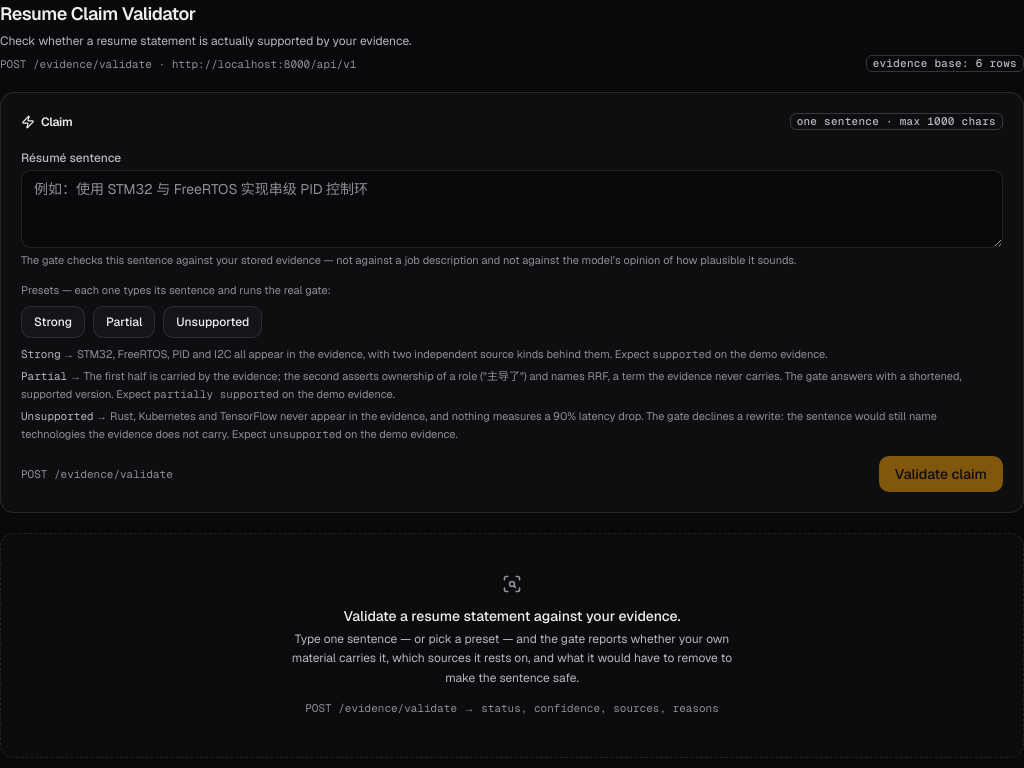
the claim validator page › states the unsupported verdict in its own words
Type "使用 STM32 与 FreeRTOS 实现串级 PID 控制环" into the text box labelled "Résumé sentence" at x=512, y=209, box [21, 170, 1003, 248]
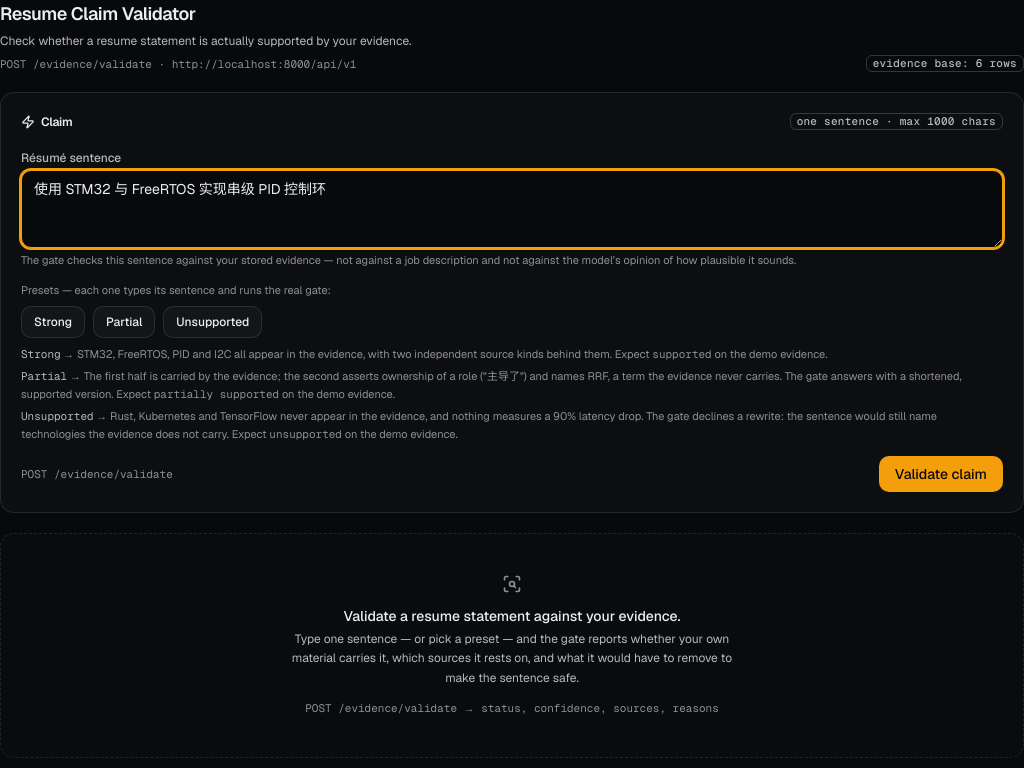
Click the button with test id "validate-claim" at x=941, y=474, box [879, 456, 1003, 492]
(page scrolled)
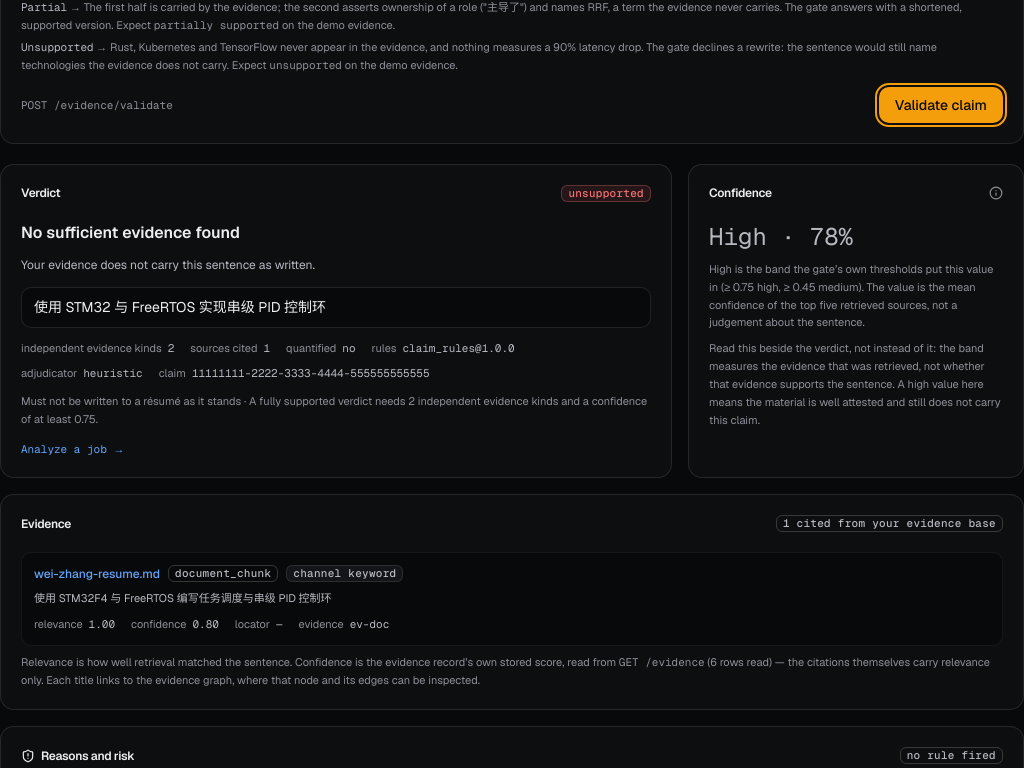
Expected: the text with test id "verdict-label" reads "No sufficient evidence found", [21, 222, 240, 243]
Expected: the text with test id "verdict-badge" reads "unsupported", [568, 186, 644, 200]
Expected: the text with test id "confidence" reads "High · 78%", [709, 221, 853, 252]
